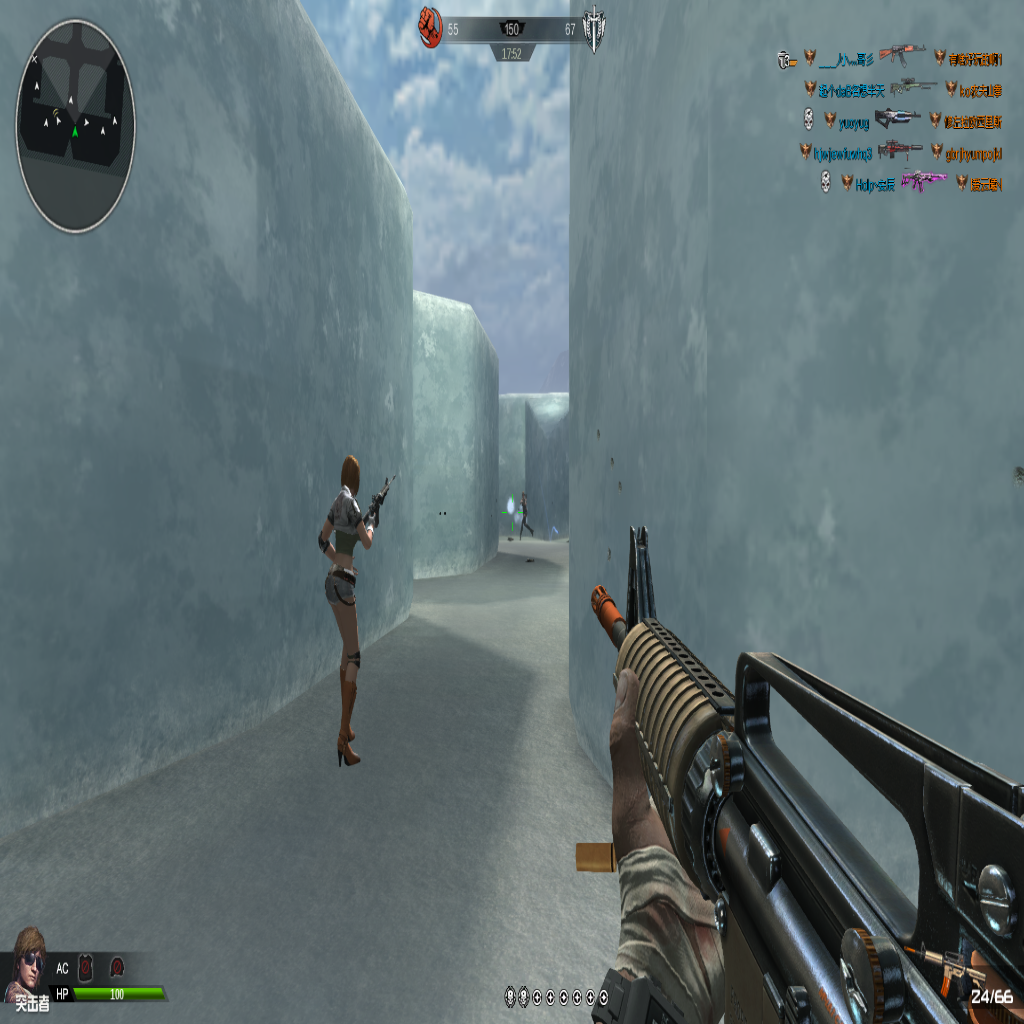ct: (517, 490, 530, 538)
tt: (321, 459, 378, 768)
